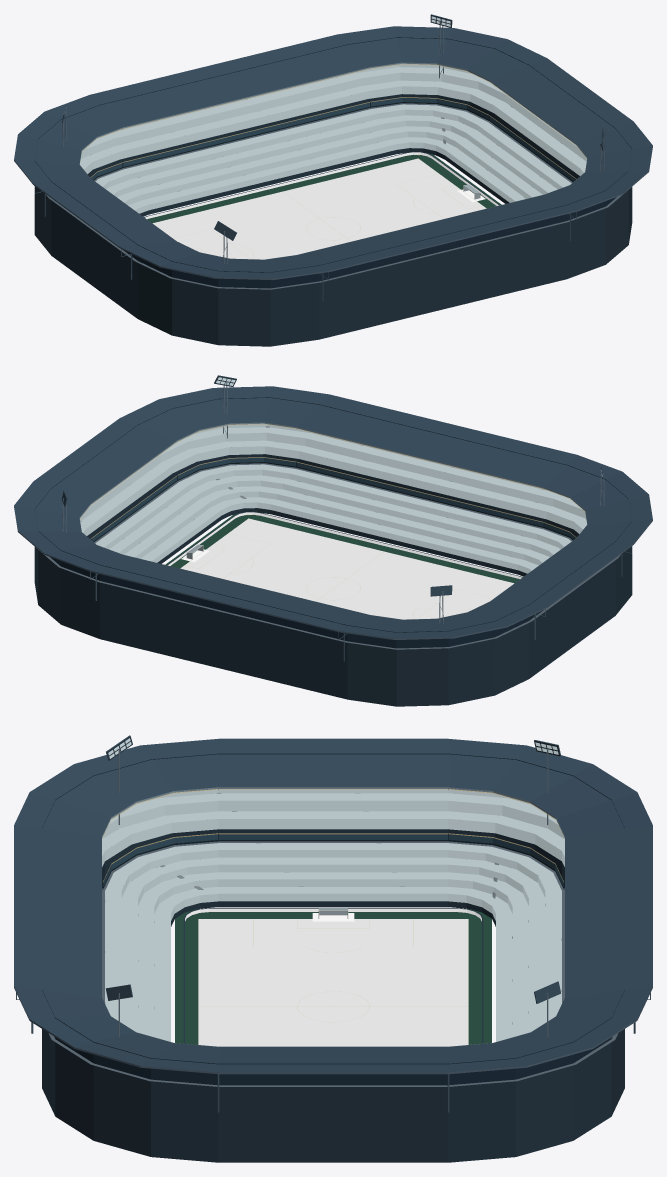
File: stadium-lod2.glb
3 views of the same model, one above another, from view 1: azimuth 30°, elevation 25°; view 2: azimuth 150°, elevation 25°; view 3: azimuth 270°, elevation 25° (orthographic). The views are drawn at different scales.
Visible parts, largest first — view 1: Roof_Canopy, Facade_Concrete, Bowl_Seats, Bowl_Risers, Pitch_Turf, Bowl_Concrete, Windbreak_Steel, Concourse_Glass, Roof_Steel, Pitch_Runoff, Perimeter_Led, Floodlights_Steel (+4 smaller); view 2: Roof_Canopy, Facade_Concrete, Bowl_Seats, Bowl_Risers, Pitch_Turf, Bowl_Concrete, Windbreak_Steel, Roof_Steel, Concourse_Glass, Pitch_Runoff, Perimeter_Led, Floodlights_Steel (+4 smaller); view 3: Roof_Canopy, Facade_Concrete, Bowl_Seats, Pitch_Turf, Bowl_Risers, Bowl_Concrete, Windbreak_Steel, Pitch_Runoff, Concourse_Glass, Roof_Steel, Floodlights_Steel, Perimeter_Led (+4 smaller).
Part boxes in pixels (x1,y1,x2,y2): Roof_Canopy: (14,26,652,278); Facade_Concrete: (34,186,632,346); Bowl_Seats: (79,67,586,210); Bowl_Risers: (80,63,586,213); Pitch_Turf: (152,158,485,259); Bowl_Concrete: (46,94,630,289); Windbreak_Steel: (35,37,632,288); Concourse_Glass: (91,97,575,181); Roof_Steel: (14,62,652,280); Pitch_Runoff: (144,152,501,223); Perimeter_Led: (145,152,498,219); Floodlights_Steel: (62,14,604,263); Roof_Canopy: (14,386,652,638); Facade_Concrete: (34,546,632,706); Bowl_Seats: (80,427,587,570); Bowl_Risers: (80,423,586,573); Pitch_Turf: (181,518,513,619); Bowl_Concrete: (36,454,620,649); Windbreak_Steel: (34,397,631,648); Roof_Steel: (14,422,652,639); Concourse_Glass: (91,457,575,541); Pitch_Runoff: (165,512,522,583); Perimeter_Led: (168,512,521,578); Floodlights_Steel: (62,375,604,623); Roof_Canopy: (14,738,652,1072); Facade_Concrete: (42,1029,624,1162); Bowl_Seats: (102,793,564,1041); Pitch_Turf: (199,919,467,1046); Bowl_Risers: (102,789,564,920); Bowl_Concrete: (48,829,618,1086); Windbreak_Steel: (42,753,624,1085); Pitch_Runoff: (175,909,491,1044); Concourse_Glass: (103,834,563,886); Roof_Steel: (14,787,652,1074); Floodlights_Steel: (105,735,561,1037); Perimeter_Led: (185,908,481,921).
Size of what is drawn, in the model's own units: 199 by 41.13 by 161.
